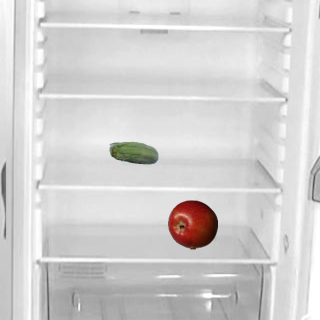Apple Braeburn: (167, 199, 217, 249)
Corn Husk: (108, 129, 158, 179)
